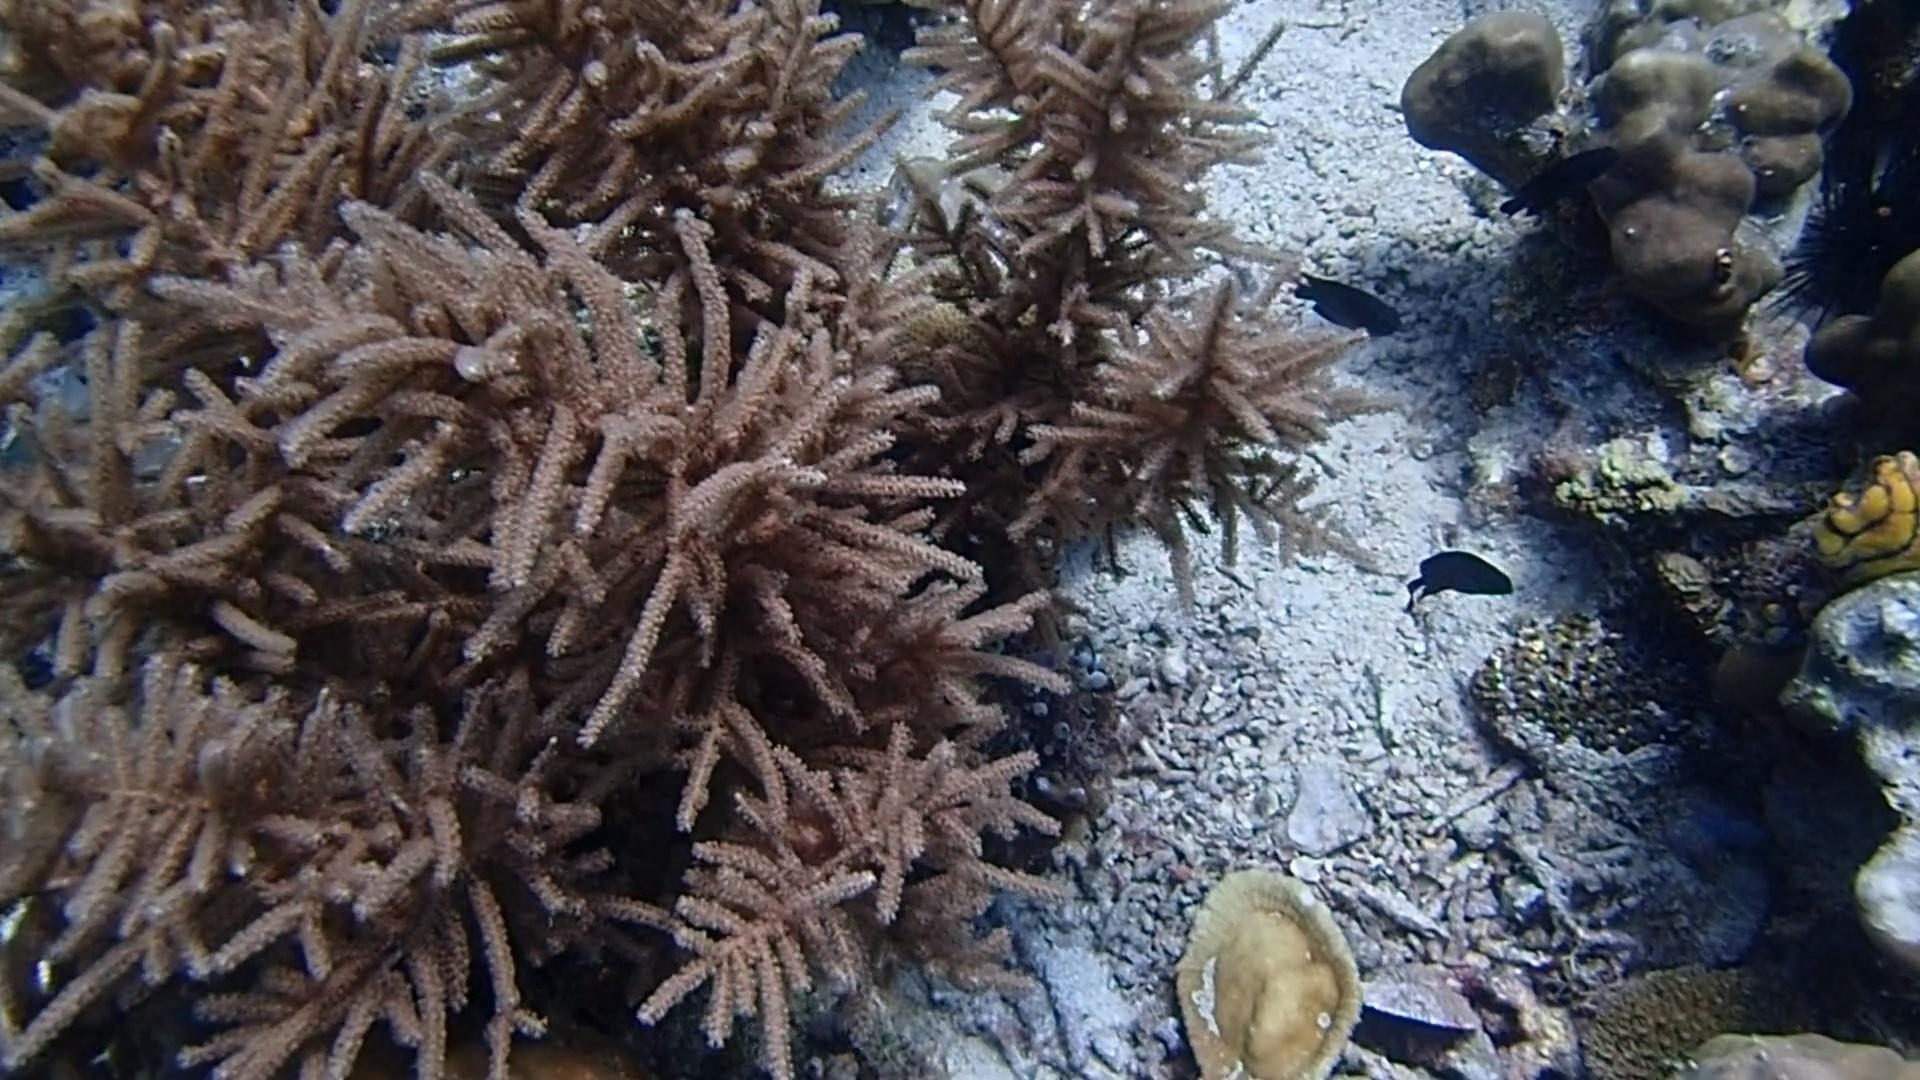Dark Fish: (1287, 256, 1407, 348), (1498, 138, 1623, 225), (1394, 538, 1522, 615)
